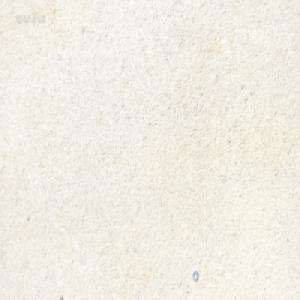Washer: (192, 269, 199, 281)
